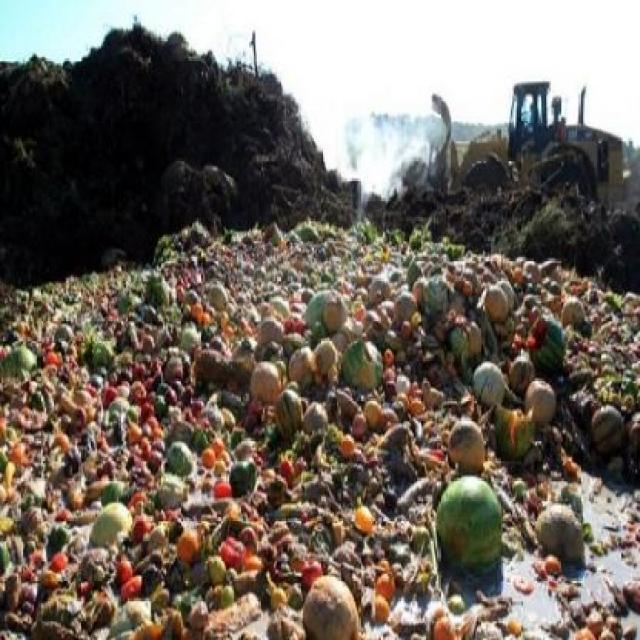garbage: (2, 285, 430, 625), (403, 254, 639, 453), (229, 225, 426, 390)
